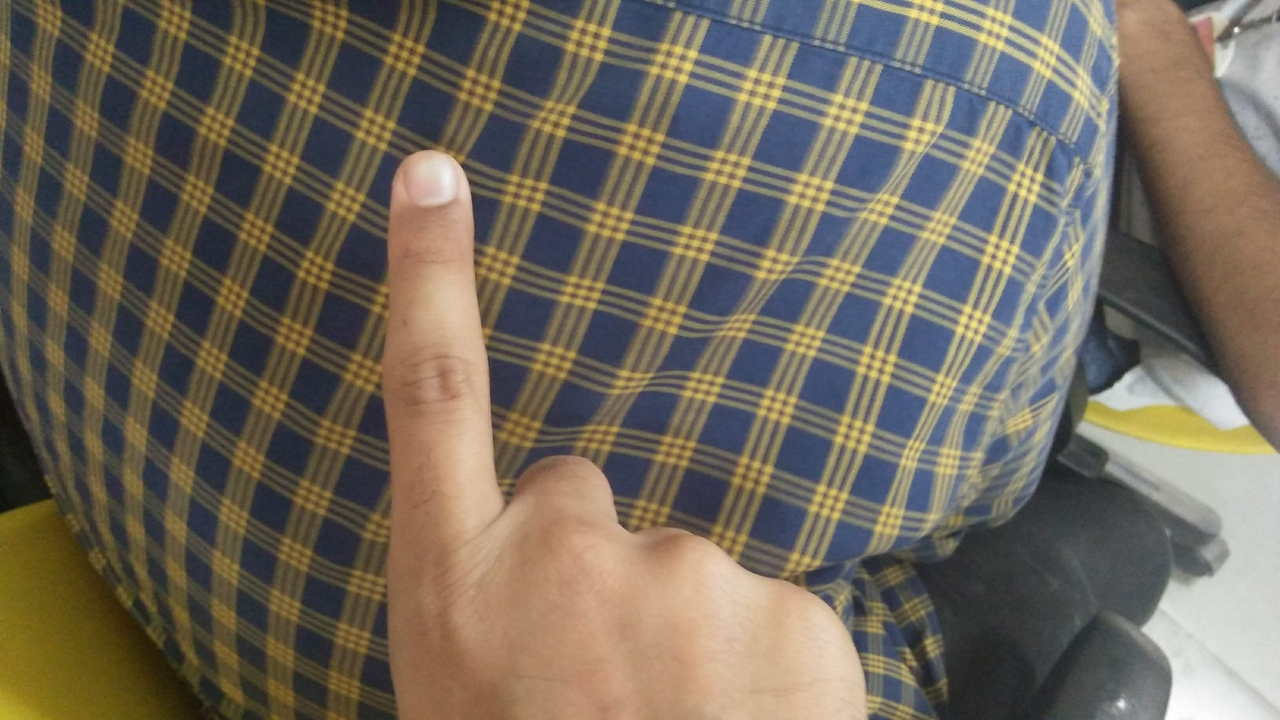fingertip: (372, 146, 478, 224)
